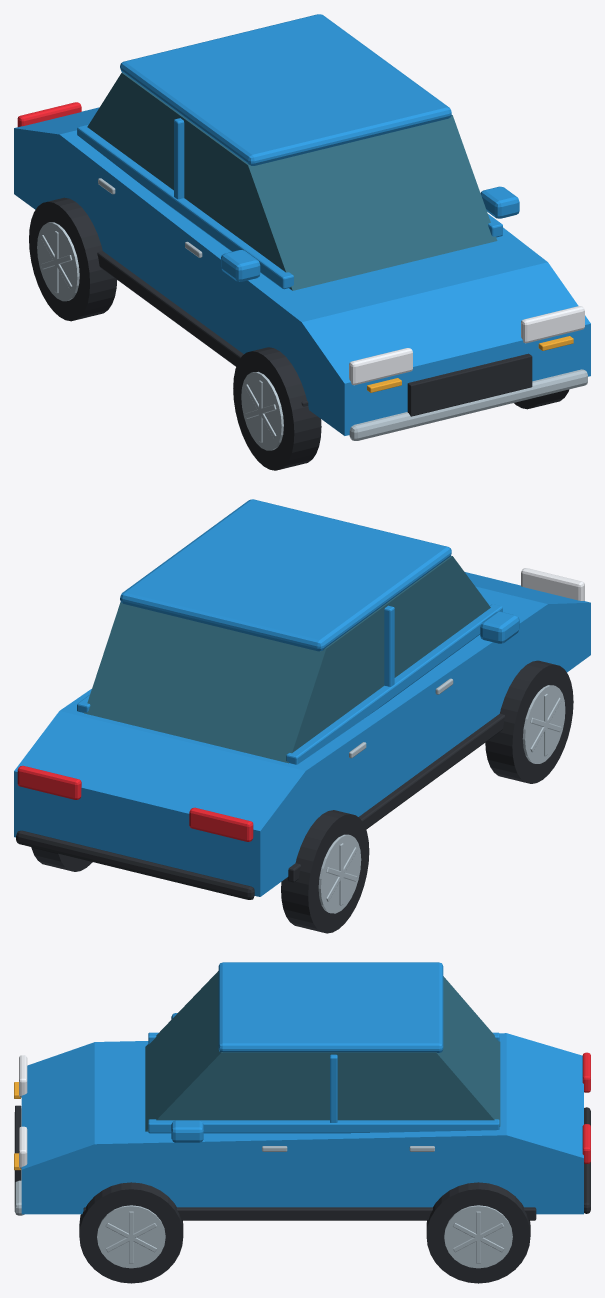
Rendered from taiwan-car-blue.glb.
The picture shows the model from 3 angles, top to bottom: view 1: azimuth 30°, elevation 25°; view 2: azimuth 150°, elevation 25°; view 3: azimuth 270°, elevation 25°; orthographic projection. The views are drawn at different scales.
Visible parts, largest first — view 1: Sculpted compact crossover, Cabin, Roof, Rubber tyre.002, Rubber tyre, Front grille, Lower window rail, Front bumper, Rocker trim, Wheel hub.002, Wheel hub, Headlamp.001 (+5 smaller); view 2: Sculpted compact crossover, Cabin, Roof, Rubber tyre, Rubber tyre.002, Lower window rail, Rear bumper, Rocker trim, Wheel hub, Wheel hub.002, Tail lamp, Tail lamp.001 (+4 smaller); view 3: Sculpted compact crossover, Cabin, Roof, Rubber tyre.003, Rubber tyre.001, Lower window rail.001, Rocker trim.001, Wheel hub.003, Wheel hub.001, Side mirror.001, Window divider.001, Rear bumper.
Part boxes in pixels (left/top/right/bottom): Sculpted compact crossover: left=14, top=107, right=590, bottom=435; Cabin: left=87, top=72, right=497, bottom=290; Roof: left=120, top=14, right=451, bottom=165; Rubber tyre.002: left=233, top=347, right=321, bottom=470; Rubber tyre: left=29, top=197, right=116, bottom=321; Front grille: left=407, top=353, right=532, bottom=416; Lower window rail: left=77, top=125, right=293, bottom=289; Front bumper: left=349, top=369, right=587, bottom=440; Rocker trim: left=97, top=251, right=308, bottom=406; Wheel hub.002: left=241, top=371, right=283, bottom=450; Wheel hub: left=37, top=222, right=79, bottom=301; Headlamp.001: left=521, top=306, right=584, bottom=343; Sculpted compact crossover: left=14, top=572, right=590, bottom=896; Cabin: left=84, top=555, right=490, bottom=763; Roof: left=120, top=499, right=451, bottom=651; Rubber tyre: left=281, top=810, right=369, bottom=933; Rubber tyre.002: left=485, top=660, right=573, bottom=783; Lower window rail: left=286, top=604, right=502, bottom=764; Rear bumper: left=16, top=830, right=254, bottom=899; Rocker trim: left=287, top=714, right=504, bottom=882; Wheel hub: left=318, top=834, right=361, bottom=913; Wheel hub.002: left=522, top=685, right=565, bottom=763; Tail lamp: left=189, top=807, right=253, bottom=841; Tail lamp.001: left=17, top=765, right=81, bottom=799; Sculpted compact crossover: left=21, top=1033, right=583, bottom=1214; Cabin: left=145, top=971, right=500, bottom=1131; Roof: left=218, top=962, right=443, bottom=1052; Rubber tyre.003: left=79, top=1182, right=183, bottom=1283; Rubber tyre.001: left=426, top=1182, right=530, bottom=1283; Lower window rail.001: left=148, top=1119, right=499, bottom=1133; Rocker trim.001: left=83, top=1207, right=536, bottom=1220; Wheel hub.003: left=97, top=1205, right=165, bottom=1268; Wheel hub.001: left=444, top=1205, right=512, bottom=1268; Side mirror.001: left=171, top=1120, right=203, bottom=1142; Window divider.001: left=330, top=1054, right=337, bottom=1122; Rear bumper: left=584, top=1107, right=590, bottom=1213.
Bounding box in the file's own units: 2 × 1.75 × 4.11.
